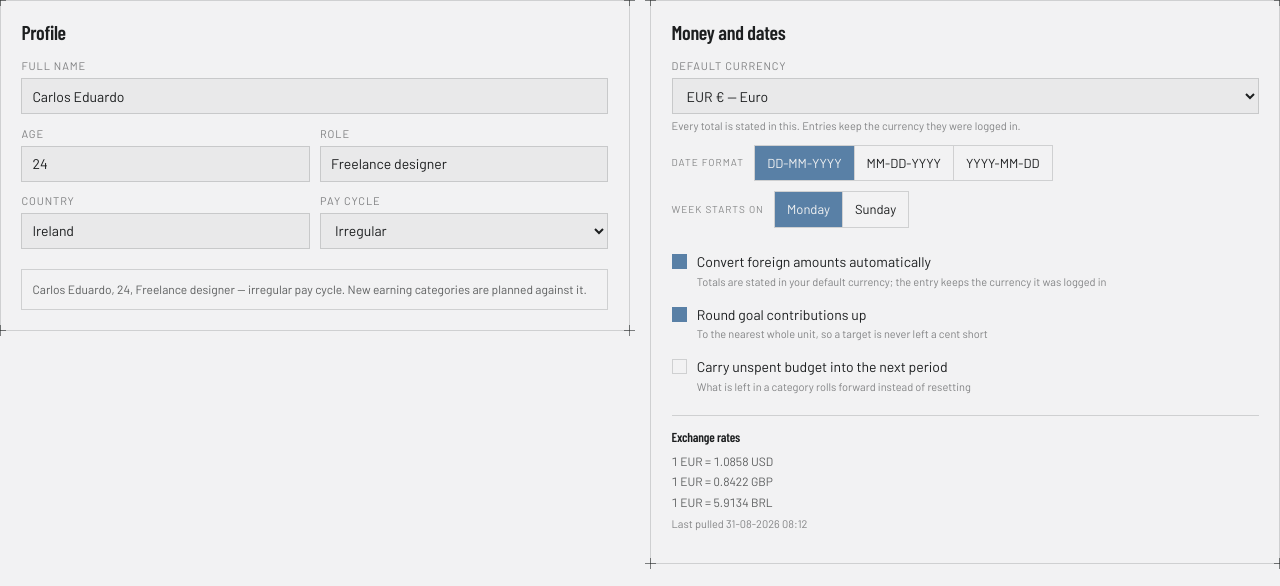
SettingsPage - the profile › keeps a saved name after a refetch
Replace the text in the field labelled "Full name" with "Ada Lovelace" at (315,96), box [21,78,608,114]
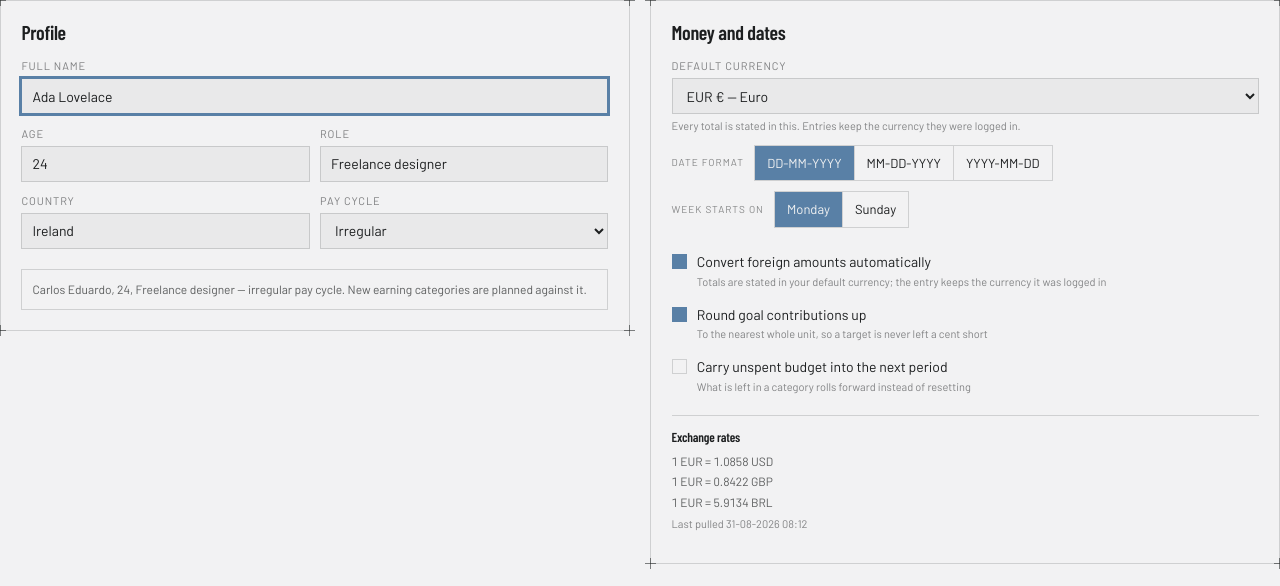
Press Tab
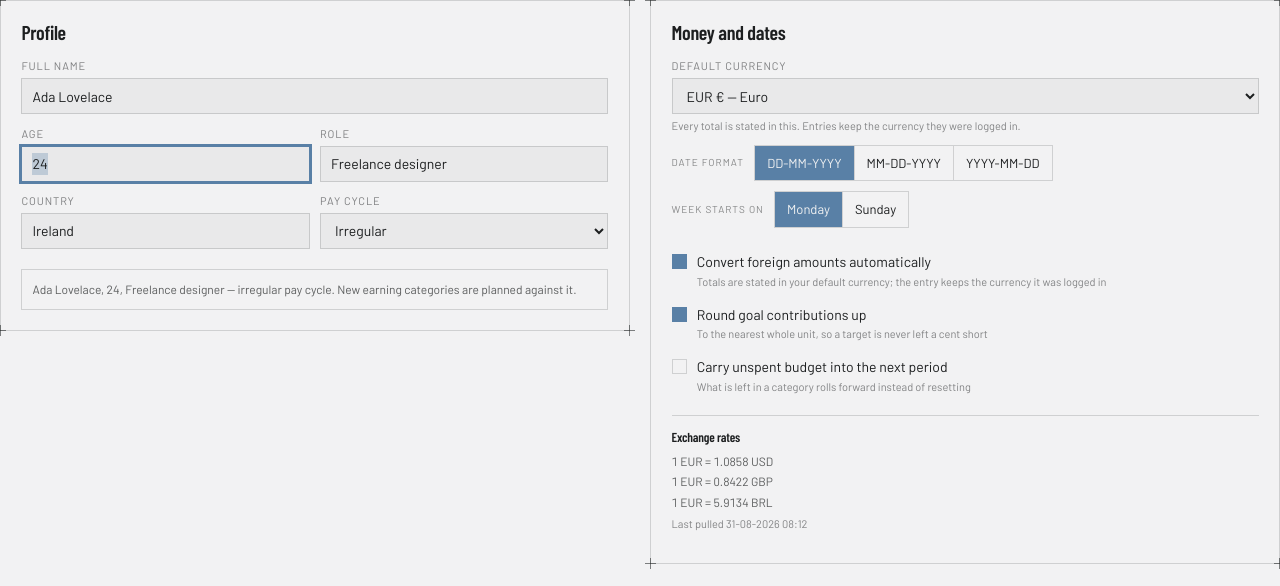
Expected: the text "Ada Lovelace, 24" is shown, [33,282,576,296]
